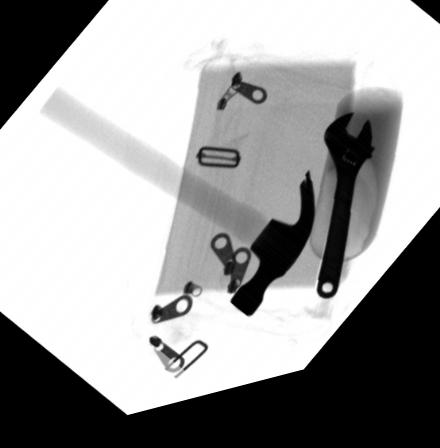Hammer: (36, 88, 314, 332)
Wrench: (313, 128, 376, 317)
